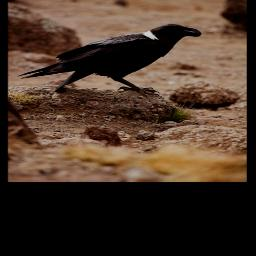Crow: (18, 21, 204, 101)
